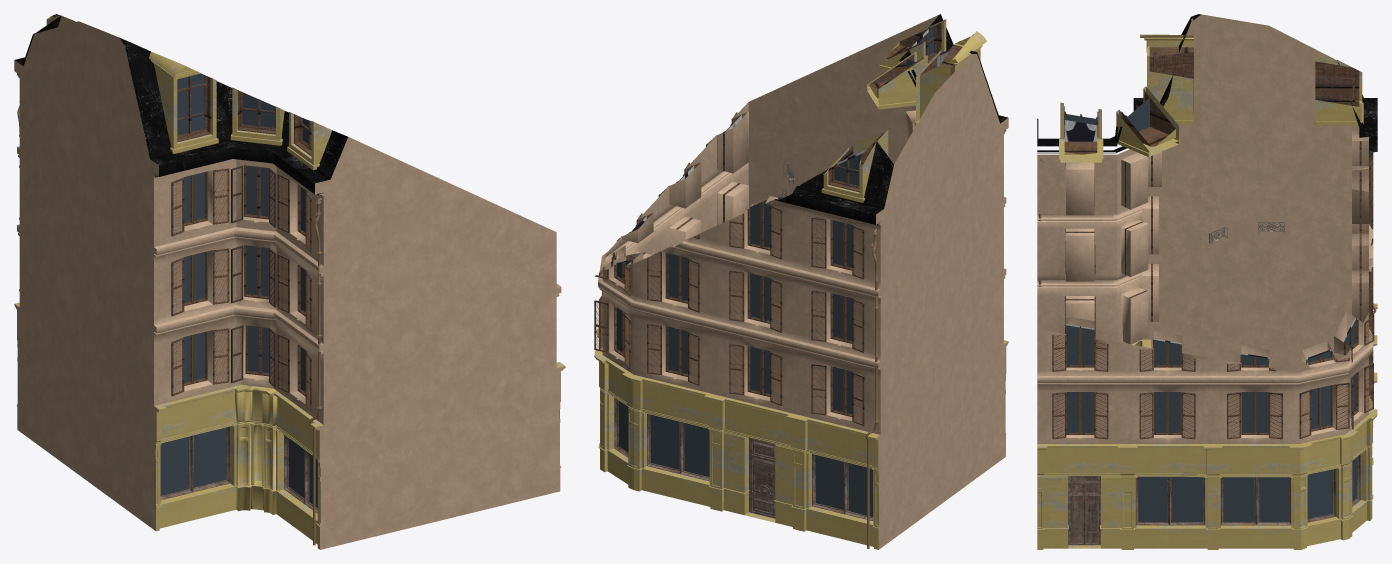
File: ruin_corner.fbx
3 renders of one model, left to right at view 1: azimuth 30°, elevation 25°; view 2: azimuth 150°, elevation 25°; view 3: azimuth 270°, elevation 25°, orthographic. The views are drawn at different scales.
Parts seen in each view (by area): view 1: ruin_corner; view 2: ruin_corner; view 3: ruin_corner.
Boxes of the visible parts, <box> form: ruin_corner: <box>14,14,565,549</box>; ruin_corner: <box>594,14,1008,549</box>; ruin_corner: <box>1037,14,1377,549</box>.
Bounding box in the file's own units: 1430 × 1428 × 1831.
13 materials, 9 textured.
